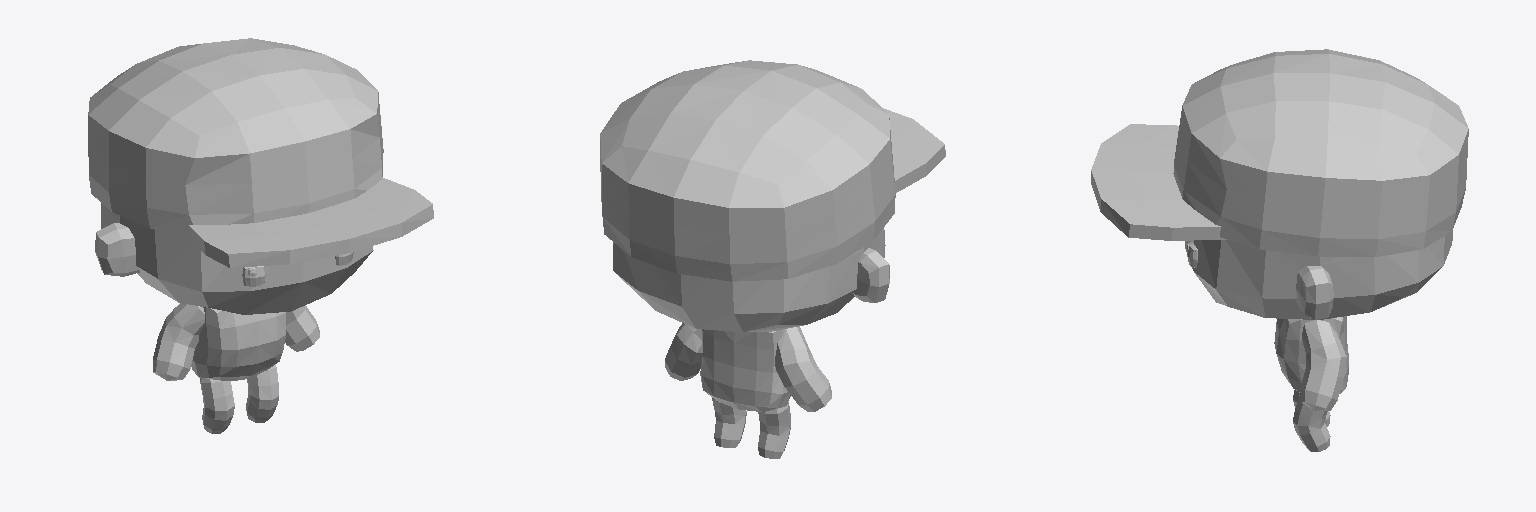
Rendered from idle_0000.obj.
3 views of the same model, side by side, from view 1: azimuth 30°, elevation 25°; view 2: azimuth 150°, elevation 25°; view 3: azimuth 270°, elevation 25° (orthographic).
Parts seen in each view (by area): view 1: Object_41, Object_42, Object_36, Object_44, Object_38; view 2: Object_41, Object_36, Object_44, Object_42; view 3: Object_41, Object_36, Object_42, Object_44.
Part boxes in pixels (x1,y1,x2,y2): Object_41: (88,38,383,235); Object_42: (185,114,433,267); Object_36: (95,203,373,314); Object_44: (153,303,319,433); Object_38: (242,252,353,286); Object_41: (600,60,895,281); Object_36: (613,228,889,331); Object_44: (665,323,831,458); Object_42: (883,108,945,192); Object_41: (1182,49,1468,256); Object_36: (1185,230,1452,319); Object_42: (1091,106,1226,240); Object_44: (1274,316,1348,451).
Size of the model in its own units: 0.9691 by 1.21 by 1.13.